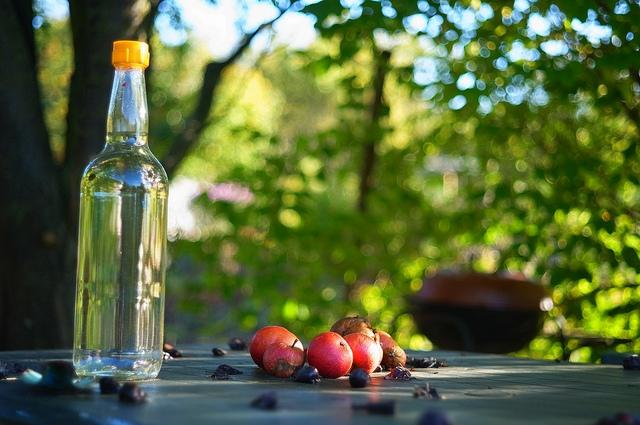apple: (250, 326, 304, 371), (306, 332, 352, 378), (263, 338, 306, 378), (343, 333, 381, 377), (329, 315, 375, 342), (380, 346, 406, 370), (377, 330, 399, 350)
